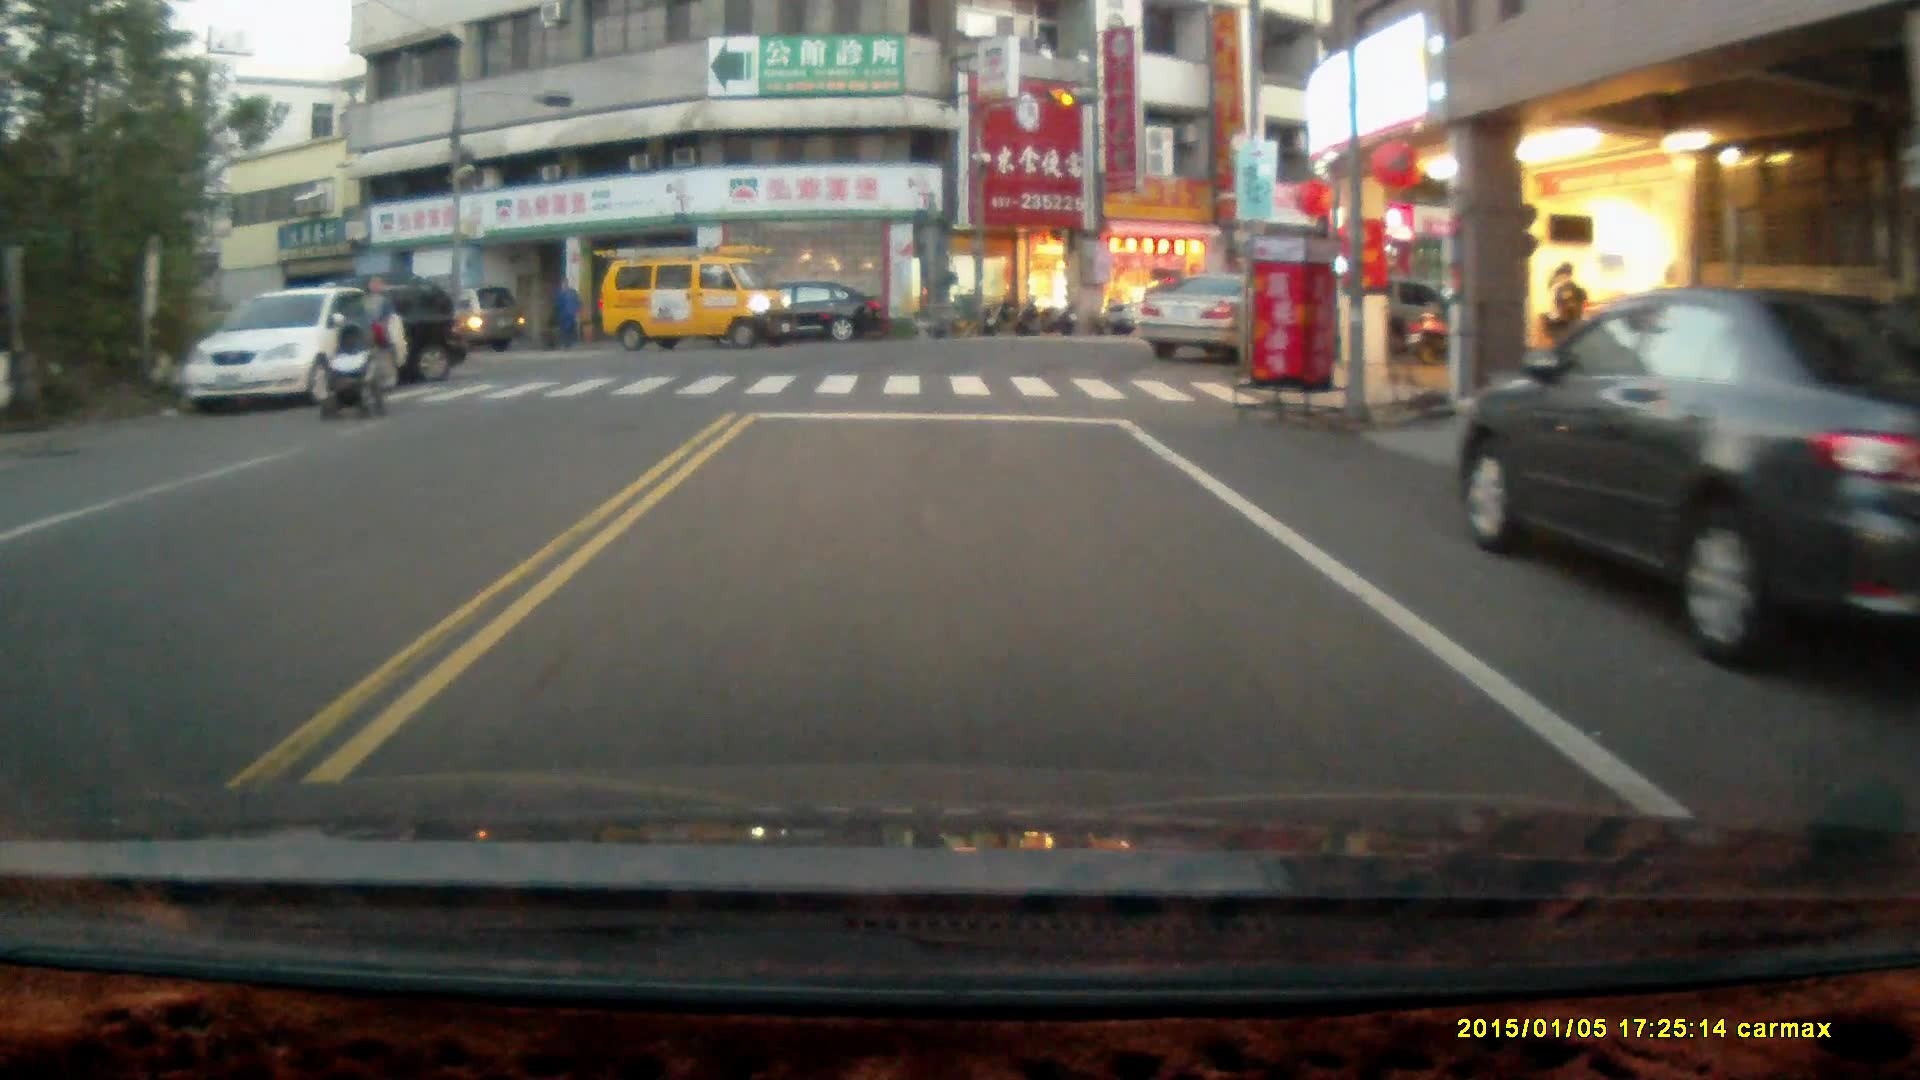pedestrian: (349, 272, 394, 404), (1553, 263, 1587, 385), (551, 277, 577, 350)
rider: (314, 318, 385, 424)
vehicle: (1455, 298, 1920, 685), (182, 290, 402, 417), (251, 270, 466, 383), (600, 246, 794, 352), (722, 276, 886, 348), (1138, 280, 1264, 370), (399, 283, 533, 363)
